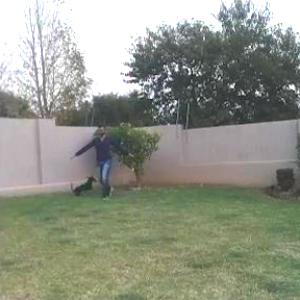land: (83, 114, 152, 206)
